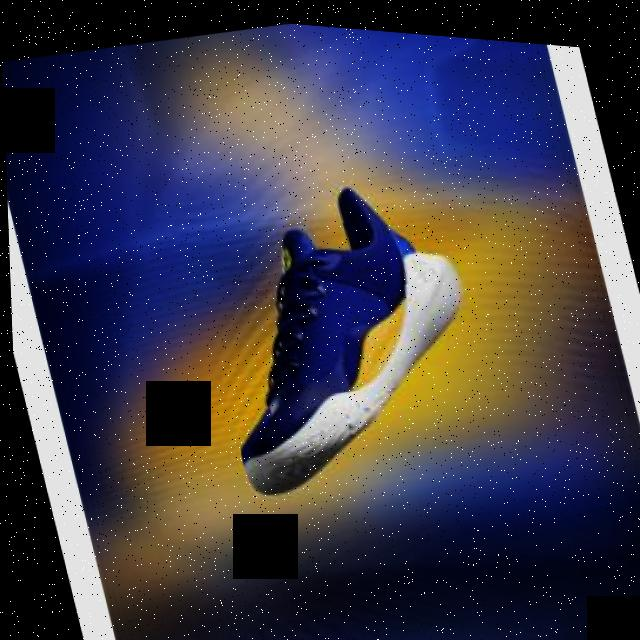shoe: (178, 152, 504, 510)
